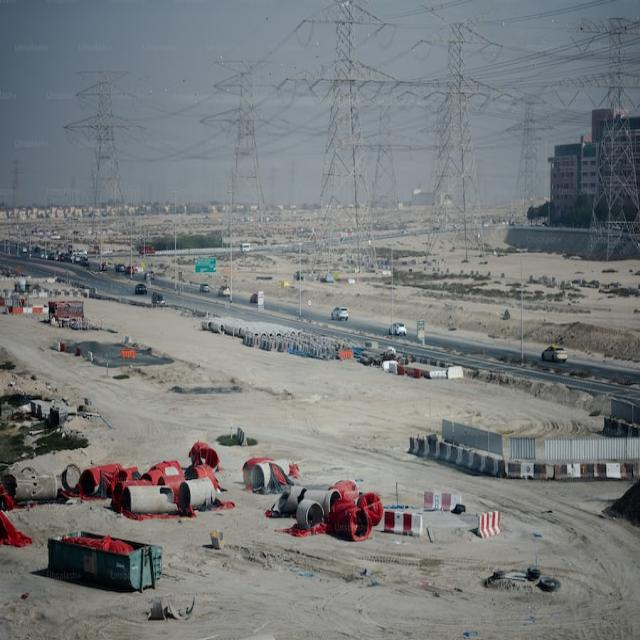transmission tower: (310, 0, 422, 283), (60, 47, 146, 233), (208, 69, 288, 250)
